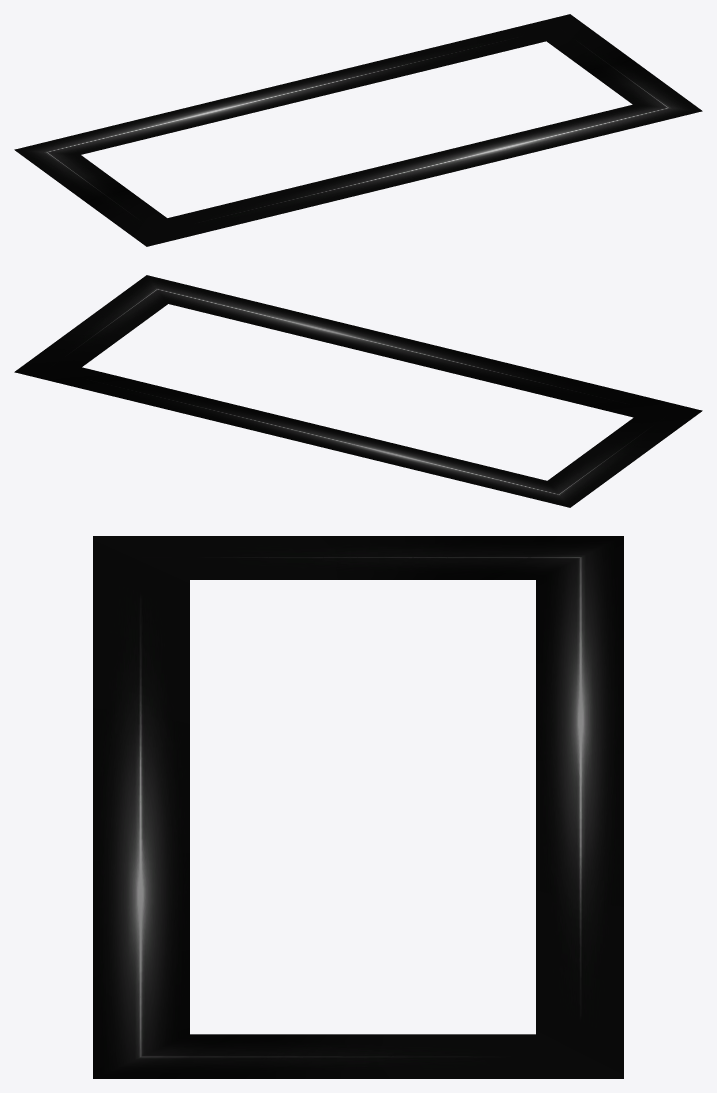
Rendered from Model_FangKuang_02.FBX.
The picture shows the model from 3 angles, top to bottom: view 1: azimuth 30°, elevation 25°; view 2: azimuth 150°, elevation 25°; view 3: azimuth 270°, elevation 25°; orthographic projection. The views are drawn at different scales.
Parts seen in each view (by area): view 1: Cylinder001; view 2: Cylinder001; view 3: Cylinder001.
Part boxes in pixels (x1=…): Cylinder001: x1=14, y1=14, x2=702, y2=246; Cylinder001: x1=14, y1=275, x2=702, y2=507; Cylinder001: x1=93, y1=536, x2=623, y2=1078.
Size of the model in its own units: 222 by 91.75 by 0.000434.
Materials: 1 (1 with a texture image).
